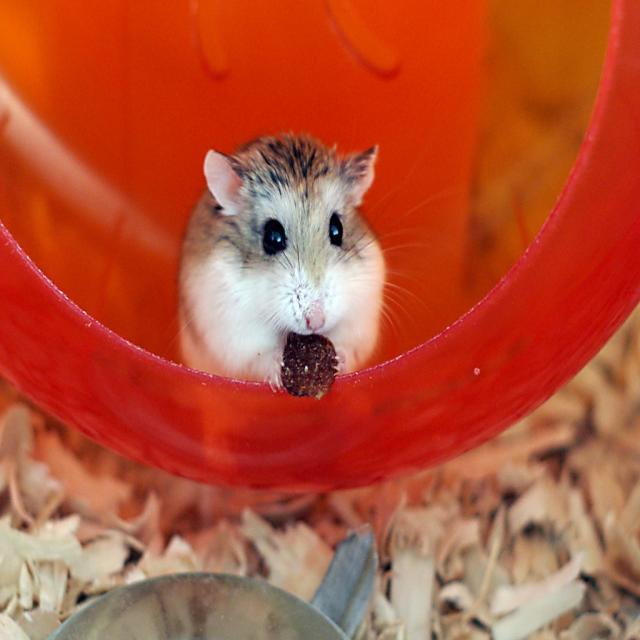rat: (178, 132, 390, 391)
